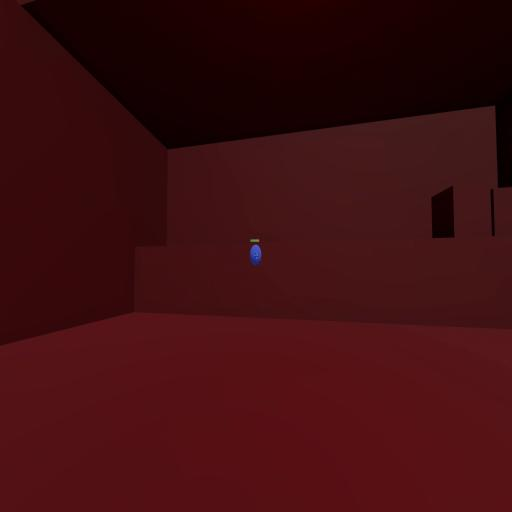Crosshair: (254, 252, 258, 260)
Target: (250, 246, 262, 266)
